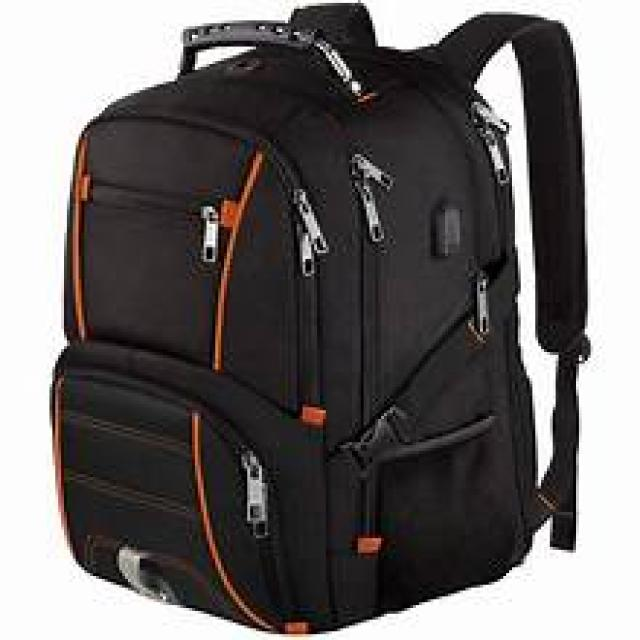backpack: (48, 1, 592, 635)
